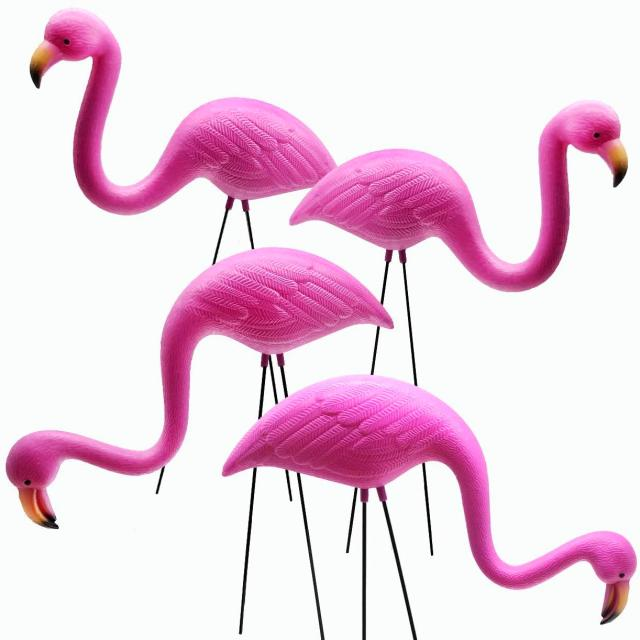flamingo: (7, 248, 393, 528), (224, 375, 637, 623), (290, 100, 628, 291), (30, 8, 335, 215), (416, 207, 423, 212)
